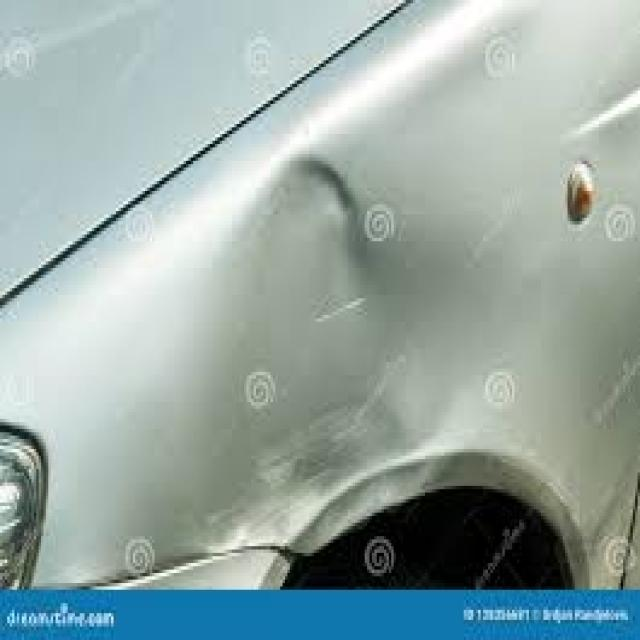Dent: (197, 142, 422, 546)
